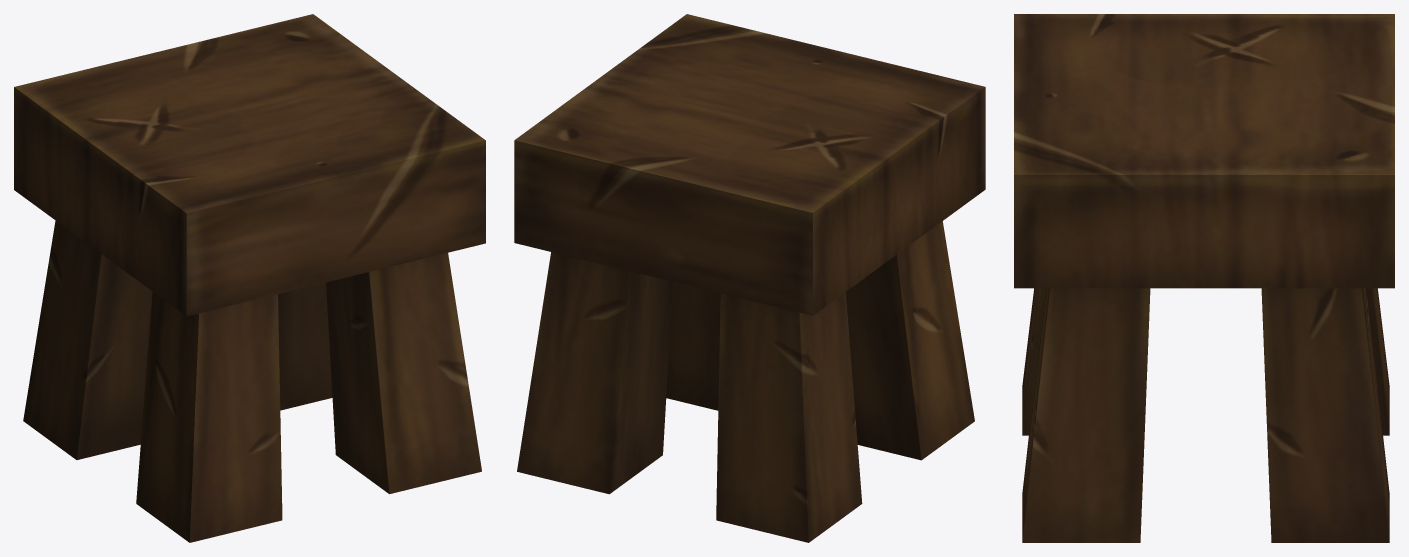
Rendered from modelChair.fbx.
The picture shows the model from 3 angles, left to right: view 1: azimuth 30°, elevation 25°; view 2: azimuth 150°, elevation 25°; view 3: azimuth 270°, elevation 25°; orthographic projection. The views are drawn at different scales.
Visible parts, largest first — view 1: modelChair; view 2: modelChair; view 3: modelChair.
Boxes of the visible parts, x1=… form: modelChair: x1=14, y1=14, x2=485, y2=542; modelChair: x1=514, y1=14, x2=985, y2=542; modelChair: x1=1014, y1=14, x2=1394, y2=542.
Bounding box in the file's own units: 5.06 × 5.4 × 5.06.
